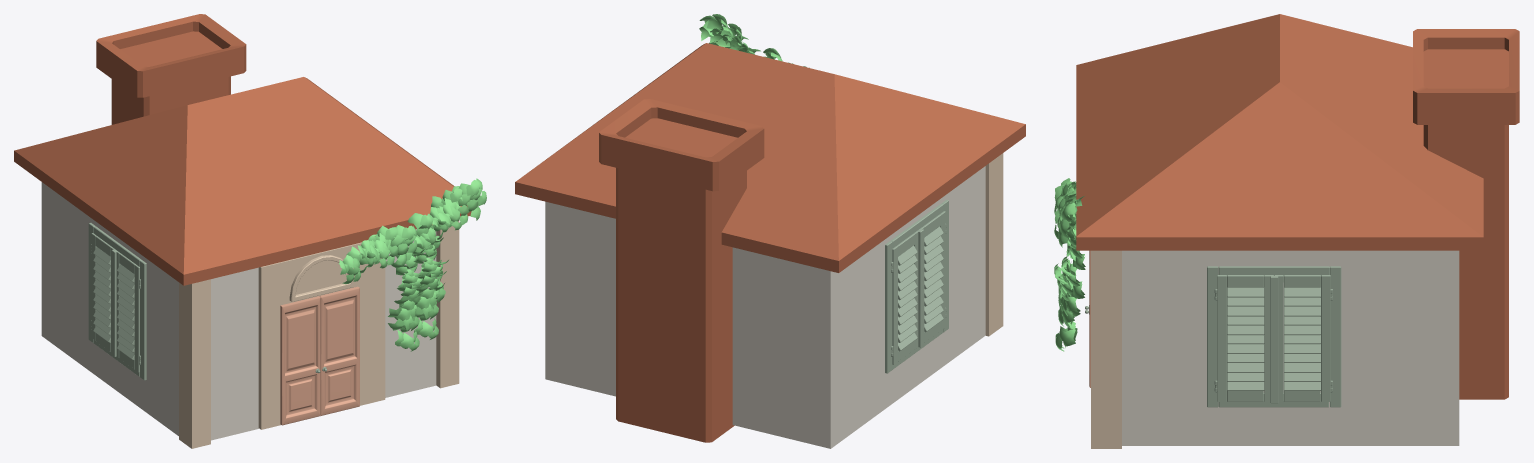
The model's file is SmallHouse2.fbx.
The picture shows the model from 3 angles, left to right: view 1: azimuth 30°, elevation 25°; view 2: azimuth 150°, elevation 25°; view 3: azimuth 270°, elevation 25°; orthographic projection. The views are drawn at different scales.
Parts seen in each view (by area): view 1: pCube340; view 2: pCube340; view 3: pCube340.
Boxes of the visible parts, x1,y1,x2,y2 form: pCube340: [14, 14, 486, 448]; pCube340: [515, 14, 1025, 448]; pCube340: [1054, 14, 1519, 448].
Size of the model in its own units: 19.95 by 17.19 by 22.37.
